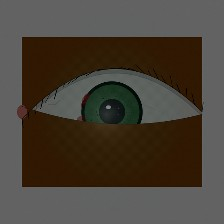hemorrhage_spot: (71, 75, 148, 136)
